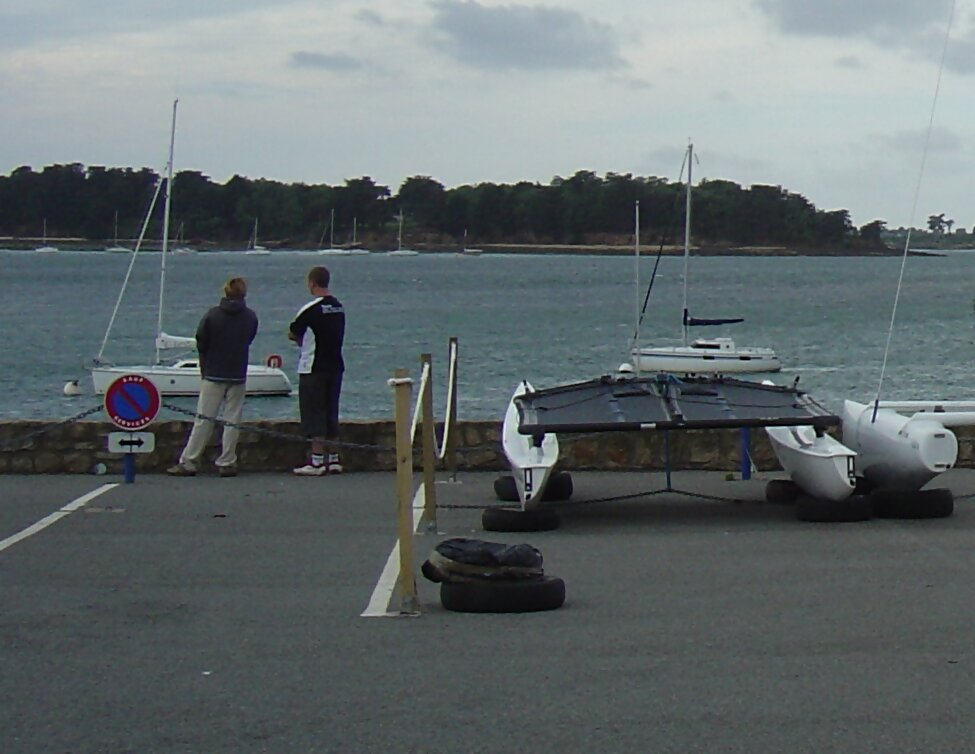person: (164, 274, 262, 483), (278, 258, 365, 479)
